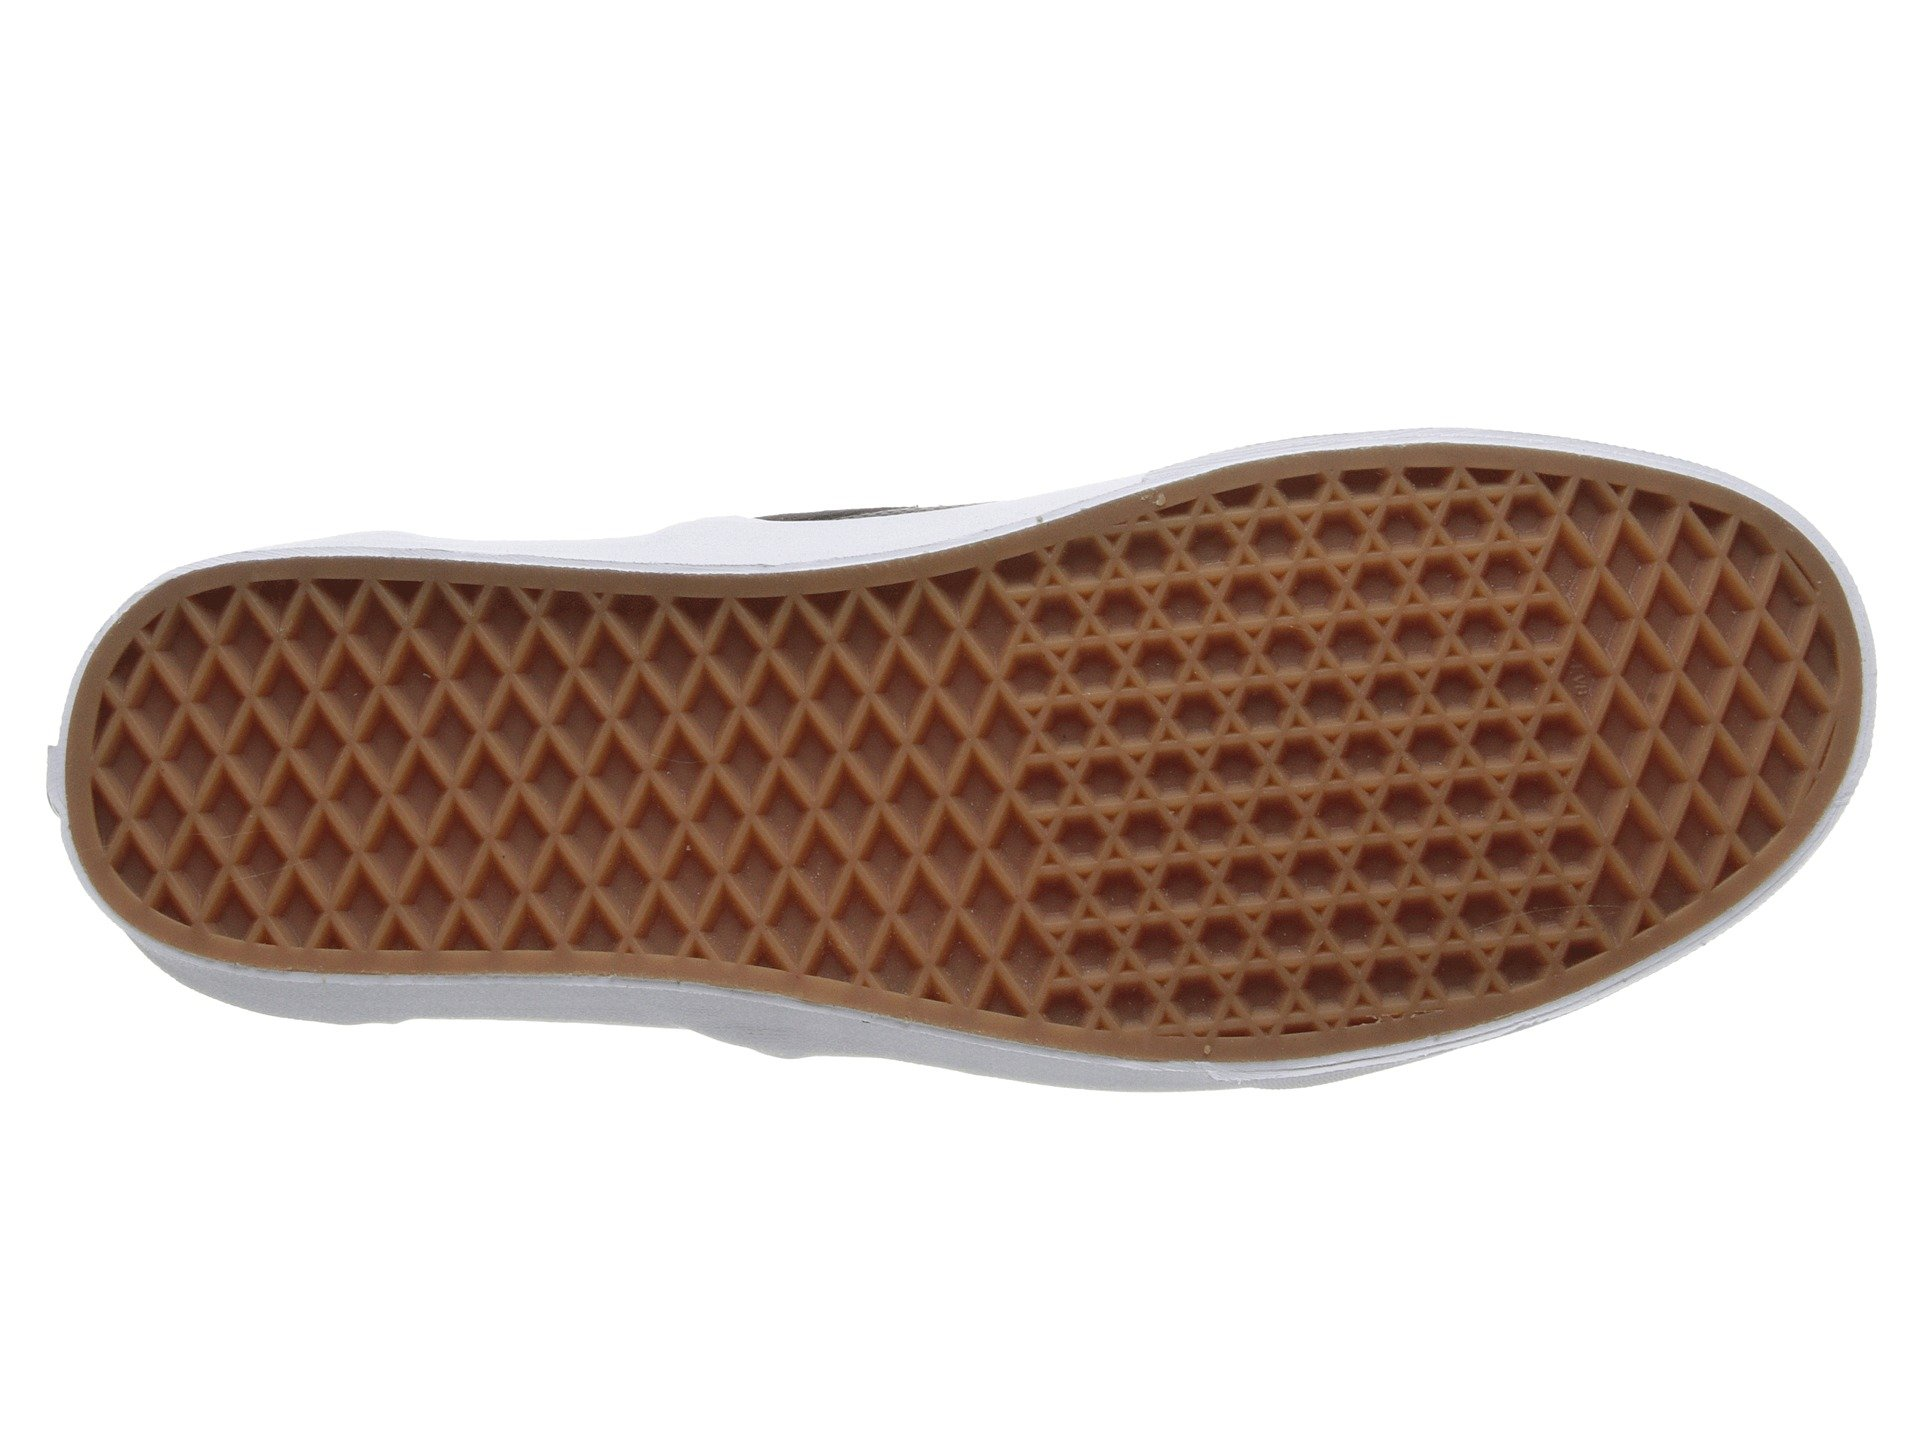polygon: (998, 129, 1358, 489), (1365, 293, 1560, 487), (1362, 47, 1507, 191)
quad: (330, 204, 695, 514), (701, 200, 986, 516), (1550, 103, 1767, 352), (100, 245, 321, 437)
star: (1362, 73, 1528, 253), (1362, 47, 1507, 191)
triangle: (998, 129, 1358, 489), (1365, 293, 1560, 487)
